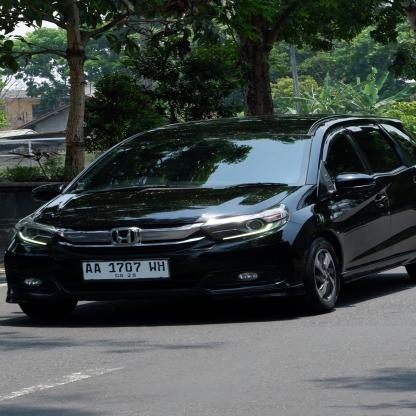Plat-Nomor: (78, 257, 173, 281)
